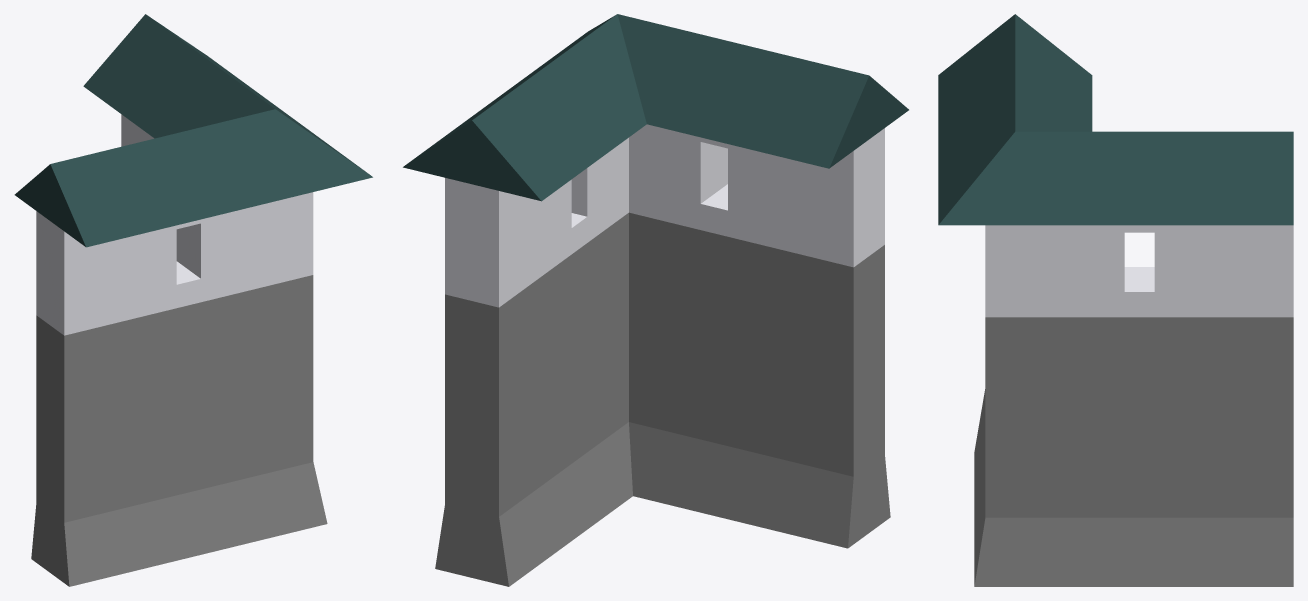
The model's file is Asian_Prop_Building_Fence_Wall_High_Small_Corner_Embrasure_01.FBX.
The picture shows the model from 3 angles, left to right: view 1: azimuth 30°, elevation 25°; view 2: azimuth 150°, elevation 25°; view 3: azimuth 270°, elevation 25°; orthographic projection. The views are drawn at different scales.
Visible parts, largest first — view 1: Asian_Prop_Building_Fence_Wall_High_Small_Corner_Embrasure_0; view 2: Asian_Prop_Building_Fence_Wall_High_Small_Corner_Embrasure_0; view 3: Asian_Prop_Building_Fence_Wall_High_Small_Corner_Embrasure_0.
Boxes of the visible parts, x1,y1,x2,y2 form: Asian_Prop_Building_Fence_Wall_High_Small_Corner_Embrasure_0: [14, 14, 372, 586]; Asian_Prop_Building_Fence_Wall_High_Small_Corner_Embrasure_0: [403, 14, 908, 586]; Asian_Prop_Building_Fence_Wall_High_Small_Corner_Embrasure_0: [938, 14, 1293, 586].
Size of the model in its own units: 2979 by 4051 by 2979.
